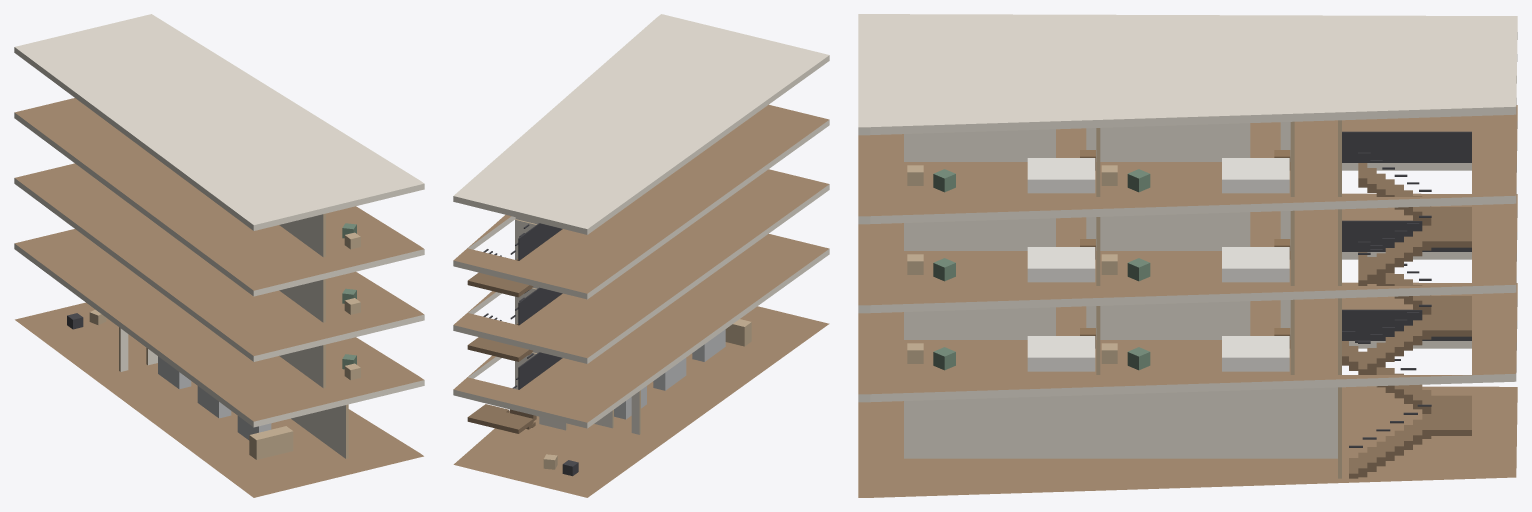
File: interior.glb
The picture shows the model from 3 angles, left to right: view 1: azimuth 30°, elevation 25°; view 2: azimuth 150°, elevation 25°; view 3: azimuth 270°, elevation 25°; orthographic projection. The views are drawn at different scales.
Parts seen in each view (by area): view 1: slabs, partitions, coarse-s0; view 2: slabs, stair, coarse-s0, partitions; view 3: slabs, partitions, stair, coarse-s1, coarse-s2, coarse-s3.
Part boxes in pixels (x1,y1,x2,y2): slabs: (14, 14, 424, 497); partitions: (119, 213, 348, 458); coarse-s0: (67, 309, 293, 459); slabs: (453, 14, 829, 497); stair: (467, 223, 562, 433); coarse-s0: (543, 319, 751, 476); partitions: (515, 219, 640, 434); slabs: (858, 14, 1517, 497); partitions: (904, 120, 1341, 478); stair: (1342, 131, 1471, 478); coarse-s1: (907, 328, 1290, 371); coarse-s2: (907, 239, 1290, 282); coarse-s3: (907, 150, 1290, 193).
Size of the model in its own units: 7.91 by 12.1 by 19.47.
